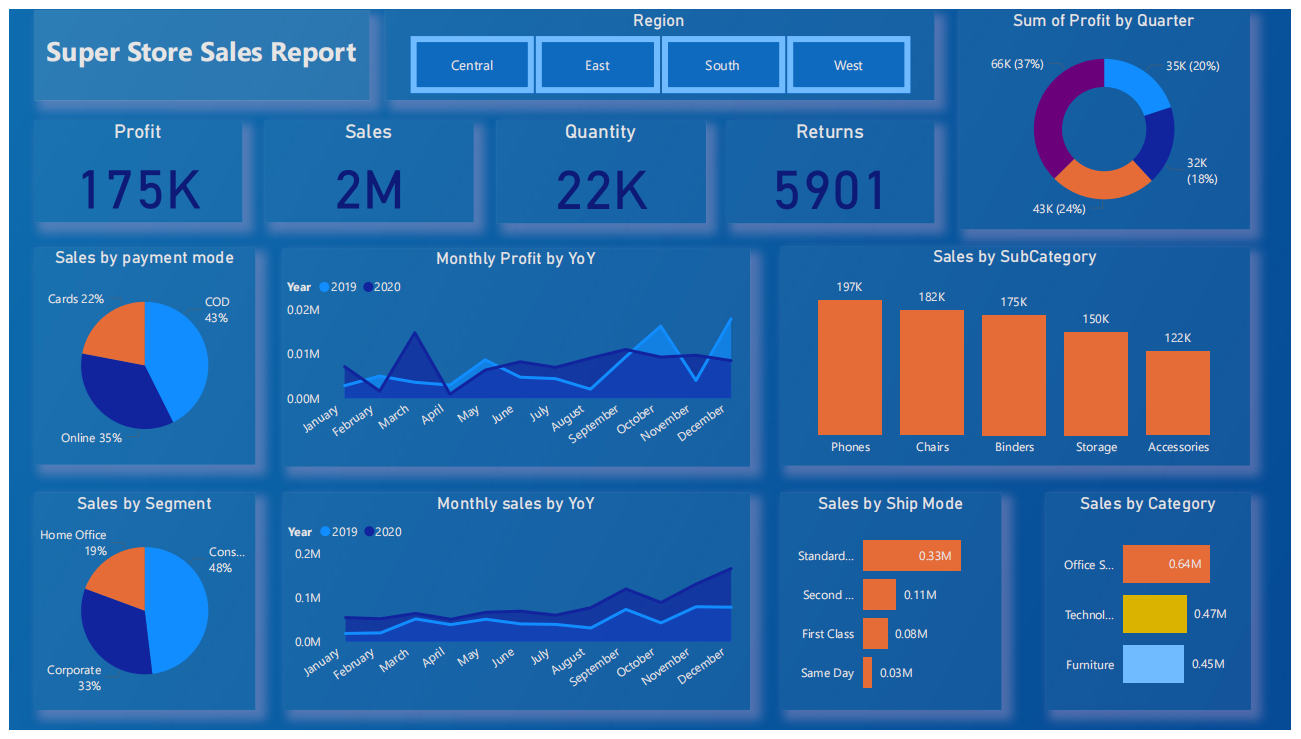

What the dashboard file says about the page in this screenshot:
{"tool":"powerbi","page":{"name":"Page 1","canvas":[1280,720],"ordinal":0},"visuals":[{"type":"clusteredBarChart","title":" Sales by Category","fields":{"Category":["Sheet1.Category"],"Y":["Sum(Sheet1.Sales)"]},"box":[1035,482.5,205,217.5],"z":0},{"type":"columnChart","title":" Sales by SubCategory","fields":{"Category":["Sheet1.Sub-Category"],"Y":["Sum(Sheet1.Sales)"]},"box":[769.8,237.4,469.3,218.2],"z":1000},{"type":"clusteredBarChart","title":" Sales by Ship Mode","fields":{"Category":["Sheet1.Ship Mode"],"Y":["Sum(Sheet1.Sales)"]},"box":[769.8,483,220.9,216.8],"z":2000},{"type":"areaChart","title":"Monthly sales by YoY","fields":{"Category":["Sheet1.Order Date.Variation.Date Hierarchy.Month","Sheet1.Order Date.Variation.Date Hierarchy.Day"],"Y":["Sum(Sheet1.Sales)"],"Series":["Sheet1.Order Date.Variation.Date Hierarchy.Year"]},"box":[273.8,482.5,466.2,217.5],"z":3000},{"type":"areaChart","title":"Monthly Profit by YoY","fields":{"Y":["Sum(Sheet1.Profit)"],"Series":["Sheet1.Order Date.Variation.Date Hierarchy.Year"],"Category":["Sheet1.Order Date.Variation.Date Hierarchy.Month","Sheet1.Order Date.Variation.Date Hierarchy.Day"]},"box":[273.1,238.8,466.6,218.2],"z":4000},{"type":"pieChart","title":"Sales by Segment","fields":{"Category":["Sheet1.Segment"],"Y":["Sum(Sheet1.Sales)"]},"box":[25,482.5,221.2,217.5],"z":5000},{"type":"pieChart","title":"Sales by payment mode","fields":{"Category":["Sheet1.Payment Mode"],"Y":["Sum(Sheet1.Sales)"]},"box":[25,237.5,221.2,217.5],"z":6000},{"type":"slicer","title":"Region","fields":{"Values":["Sheet1.Region"]},"box":[374.6,1.4,548.9,89.2],"z":7000},{"type":"card","title":"Profit","fields":{"Values":["Sum(Sheet1.Profit)"]},"box":[24.7,111.1,208.6,101.5],"z":8000},{"type":"card","title":"Sales","fields":{"Values":["Sum(Sheet1.Sales)"]},"box":[255.2,111.1,208.6,101.5],"z":9000},{"type":"card","title":"Quantity","fields":{"Values":["Sum(Sheet1.Quantity)"]},"box":[487.1,111.1,208.6,102.9],"z":10000},{"type":"card","title":"Returns","fields":{"Values":["Sum(Sheet1.Returns)"]},"box":[716.3,111.1,207.2,102.9],"z":11000},{"type":"textbox","box":[24.7,1.4,334.8,89.2],"z":12000},{"type":"donutChart","fields":{"Category":["Sheet1.Order Date.Variation.Date Hierarchy.Quarter"],"Y":["Sum(Sheet1.Profit)"]},"box":[948.2,1.4,290.9,218.2],"z":13000}]}

Visuals, with their boxes in screenshot pixels (x1, y1, x2, y2), scaled from the page's 1280x720 canvas onto the 1301x739 screenshot:
" Sales by Category" clusteredBarChart: [1052,495,1260,718]
" Sales by SubCategory" columnChart: [782,244,1259,468]
" Sales by Ship Mode" clusteredBarChart: [782,496,1007,718]
"Monthly sales by YoY" areaChart: [278,495,752,718]
"Monthly Profit by YoY" areaChart: [278,245,752,469]
"Sales by Segment" pieChart: [25,495,250,718]
"Sales by payment mode" pieChart: [25,244,250,467]
"Region" slicer: [381,1,939,93]
"Profit" card: [25,114,237,218]
"Sales" card: [259,114,471,218]
"Quantity" card: [495,114,707,220]
"Returns" card: [728,114,939,220]
textbox: [25,1,365,93]
donutChart - Sheet1.Order Date.Variation.Date Hierarchy.Quarter x Sum(Sheet1.Profit): [964,1,1259,225]
